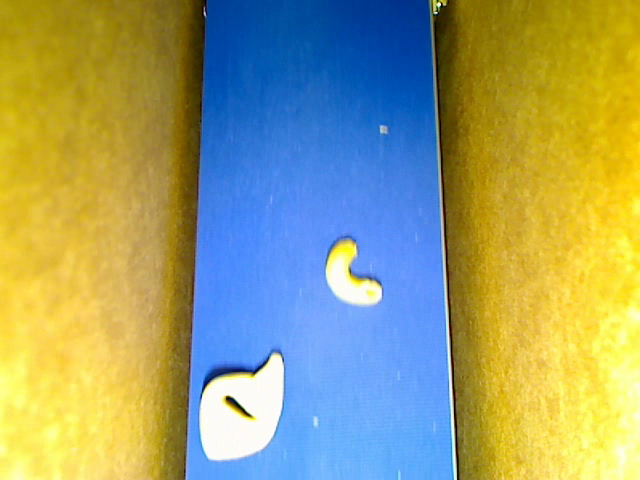elbow: (325, 237, 382, 308)
tortellini: (200, 349, 285, 460)
